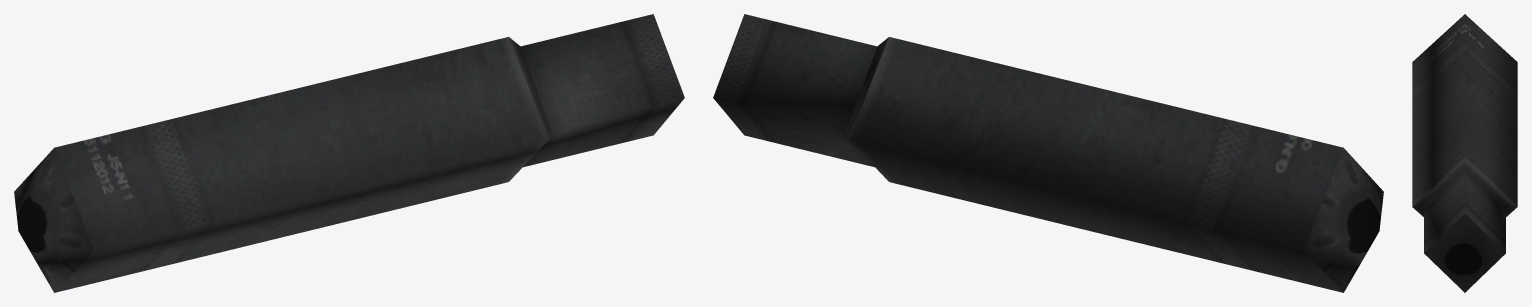
Rendered from t6_attach_shotgun_silencer2_world_LOD1.obj.
3 renders of one model, left to right at view 1: azimuth 30°, elevation 25°; view 2: azimuth 150°, elevation 25°; view 3: azimuth 270°, elevation 25°, orthographic. The views are drawn at different scales.
Visible parts, largest first — view 1: mtl_t6_attach_shotgun_silencer1; view 2: mtl_t6_attach_shotgun_silencer1; view 3: mtl_t6_attach_shotgun_silencer1.
Part boxes in pixels (x1,y1,x2,y2): mtl_t6_attach_shotgun_silencer1: (14,14,684,292); mtl_t6_attach_shotgun_silencer1: (713,14,1383,292); mtl_t6_attach_shotgun_silencer1: (1412,14,1517,292).
Bounding box in the file's own units: 23.87 × 5.22 × 5.23.
